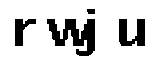j: (79, 6, 100, 60)
r: (13, 17, 39, 51)
u: (113, 14, 148, 56)
w: (44, 15, 86, 49)
